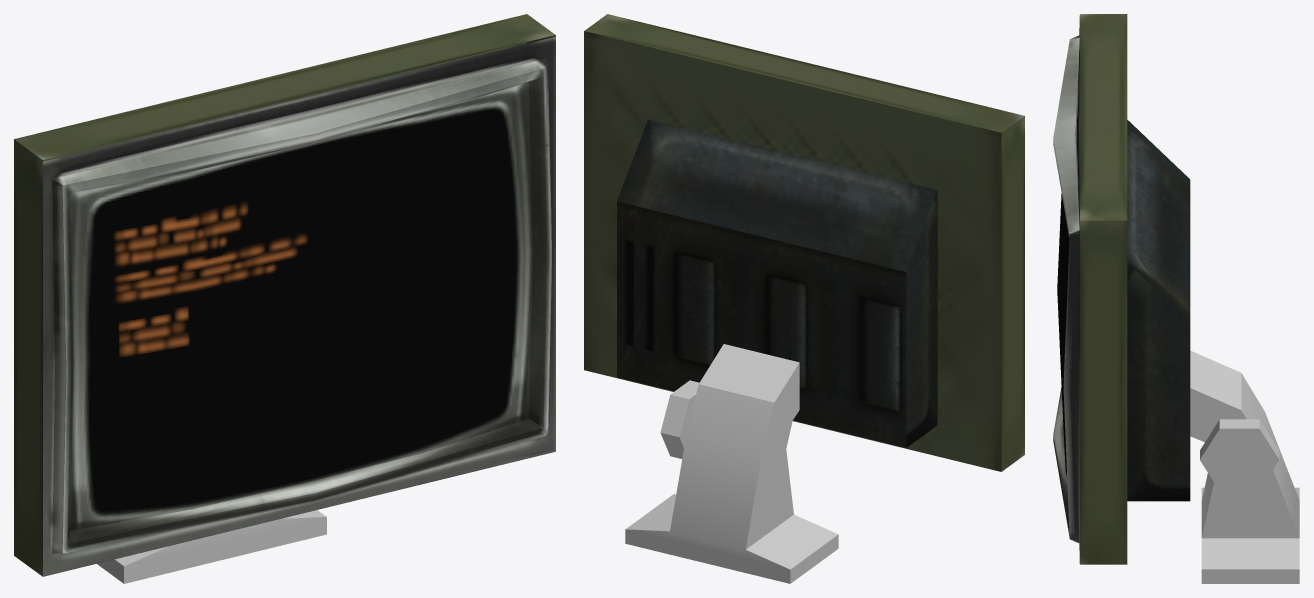
File: desctop_pc.fbx
3 views of the same model, side by side, from view 1: azimuth 30°, elevation 25°; view 2: azimuth 150°, elevation 25°; view 3: azimuth 270°, elevation 25° (orthographic). The views are drawn at different scales.
Visible parts, largest first — view 1: Plane.001; view 2: Plane.001; view 3: Plane.001.
Boxes of the visible parts, x1,y1,x2,y2 form: Plane.001: (14, 14, 555, 583); Plane.001: (584, 14, 1024, 583); Plane.001: (1053, 14, 1299, 583).
Bounding box in the file's own units: 1000 × 961 × 504.
